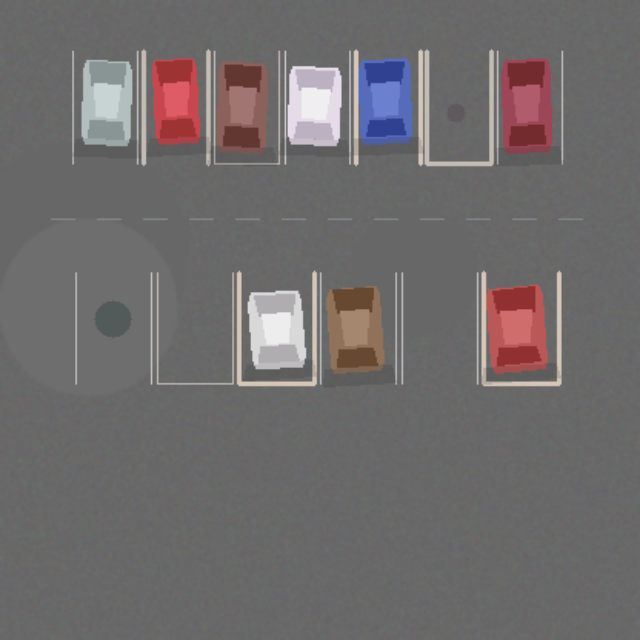space-empty: (75, 272, 151, 383), (157, 272, 232, 383), (402, 272, 477, 383), (426, 51, 491, 163)
space-occupied: (238, 272, 314, 383), (320, 272, 395, 383), (483, 272, 558, 383), (72, 51, 137, 163), (143, 51, 208, 163), (355, 51, 420, 163), (497, 51, 562, 163), (214, 51, 278, 163), (285, 51, 349, 163)
